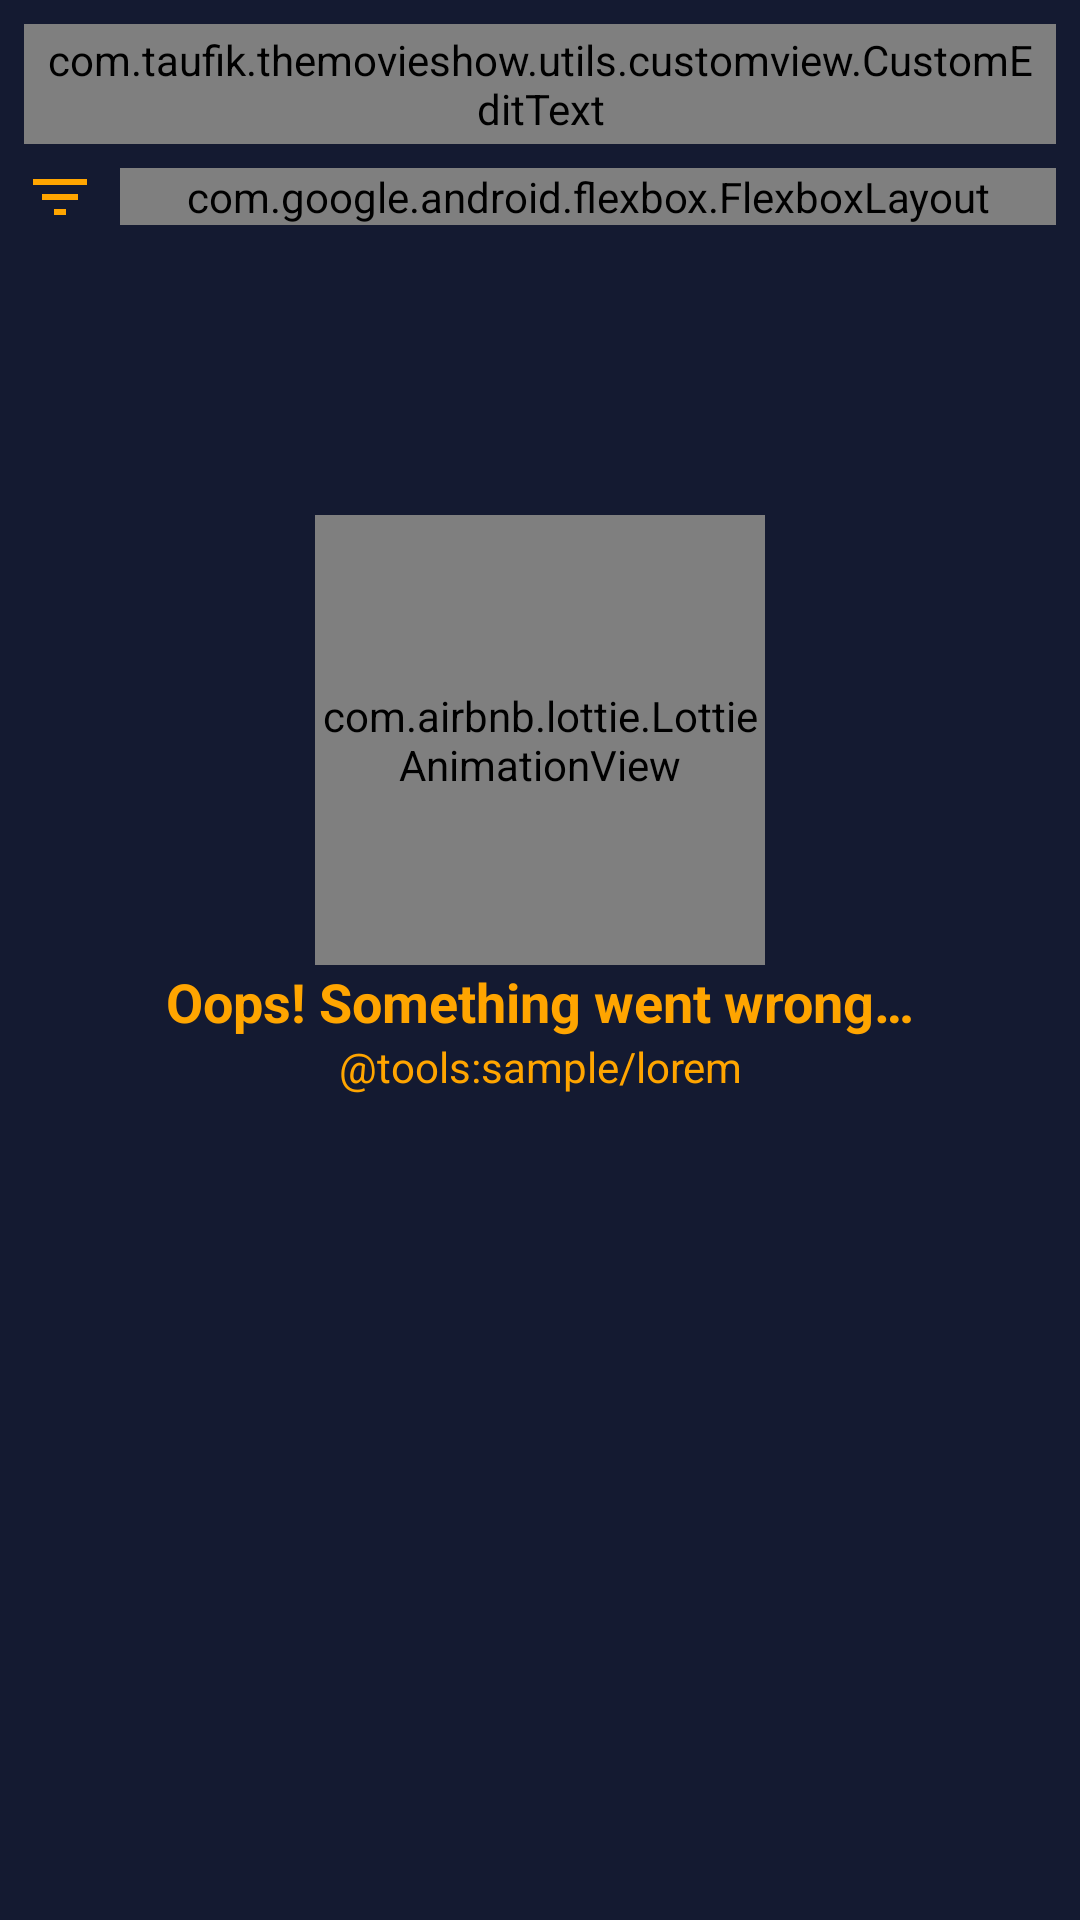

Where icons sit on this 1080*1920 app screen, as {"x1": x1, "y1": y1, "x2": x2, "y2": y2}:
Sort & Filter: {"x1": 33, "y1": 179, "x2": 87, "y2": 215}
